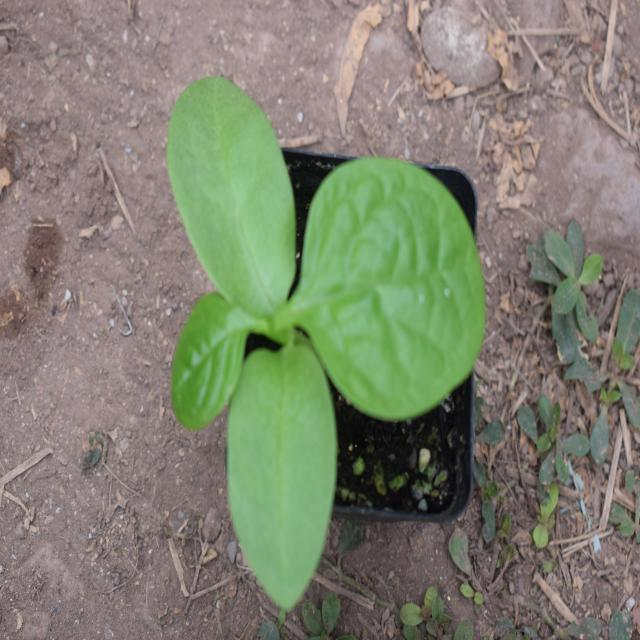Ceylon spinach: (154, 82, 484, 522)
